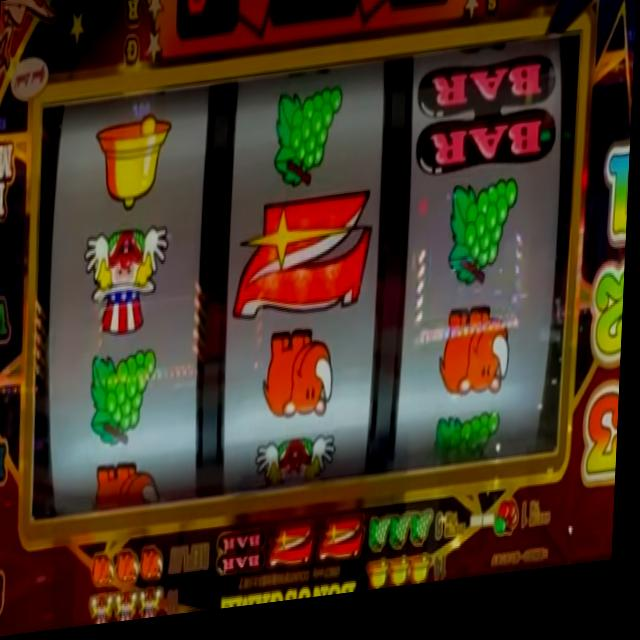bar: (414, 66, 562, 190), (219, 531, 272, 585)
bell: (93, 112, 173, 221), (370, 565, 393, 601), (414, 564, 437, 597), (393, 563, 414, 599)
cherry: (499, 508, 524, 552)
clown: (80, 224, 172, 345), (257, 439, 341, 498), (92, 591, 118, 629), (117, 592, 144, 626), (142, 589, 169, 622)
display: (27, 50, 582, 530)
elephant: (263, 333, 339, 438), (440, 316, 515, 417), (97, 462, 165, 514), (143, 549, 169, 588), (119, 550, 145, 589), (95, 554, 120, 592)
grape: (448, 187, 522, 304), (274, 92, 344, 201), (91, 347, 160, 456), (436, 421, 505, 482), (415, 519, 438, 560), (393, 522, 416, 560), (373, 522, 394, 563)
z: (237, 198, 377, 332), (270, 525, 319, 578), (322, 520, 369, 575)
